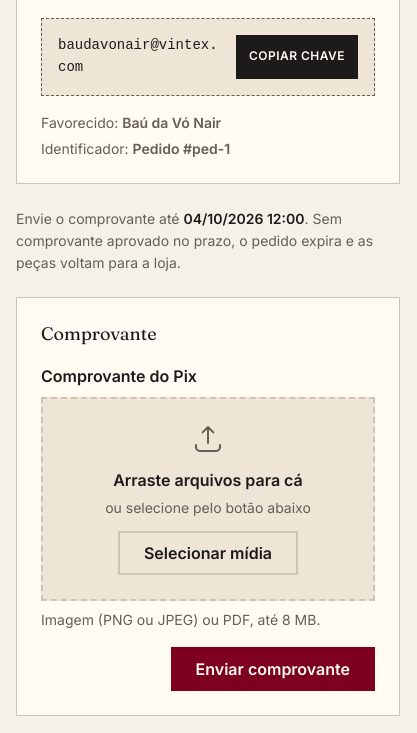
it: <OrderPayment /> › recusa o envio sem arquivo, com aviso no próprio campo
The image size is (417, 733).
(page scrolled)
Click the button "Enviar comprovante": (273,669) 170,647 -> 375,691
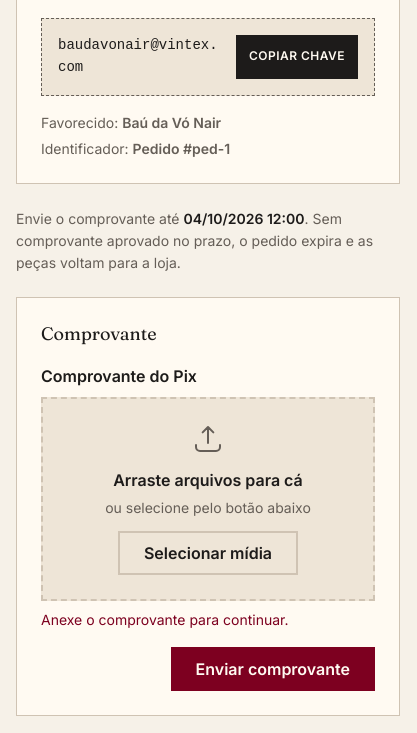
Expected: the text "Anexe o comprovante para continuar." is shown, 41,611 -> 288,628
